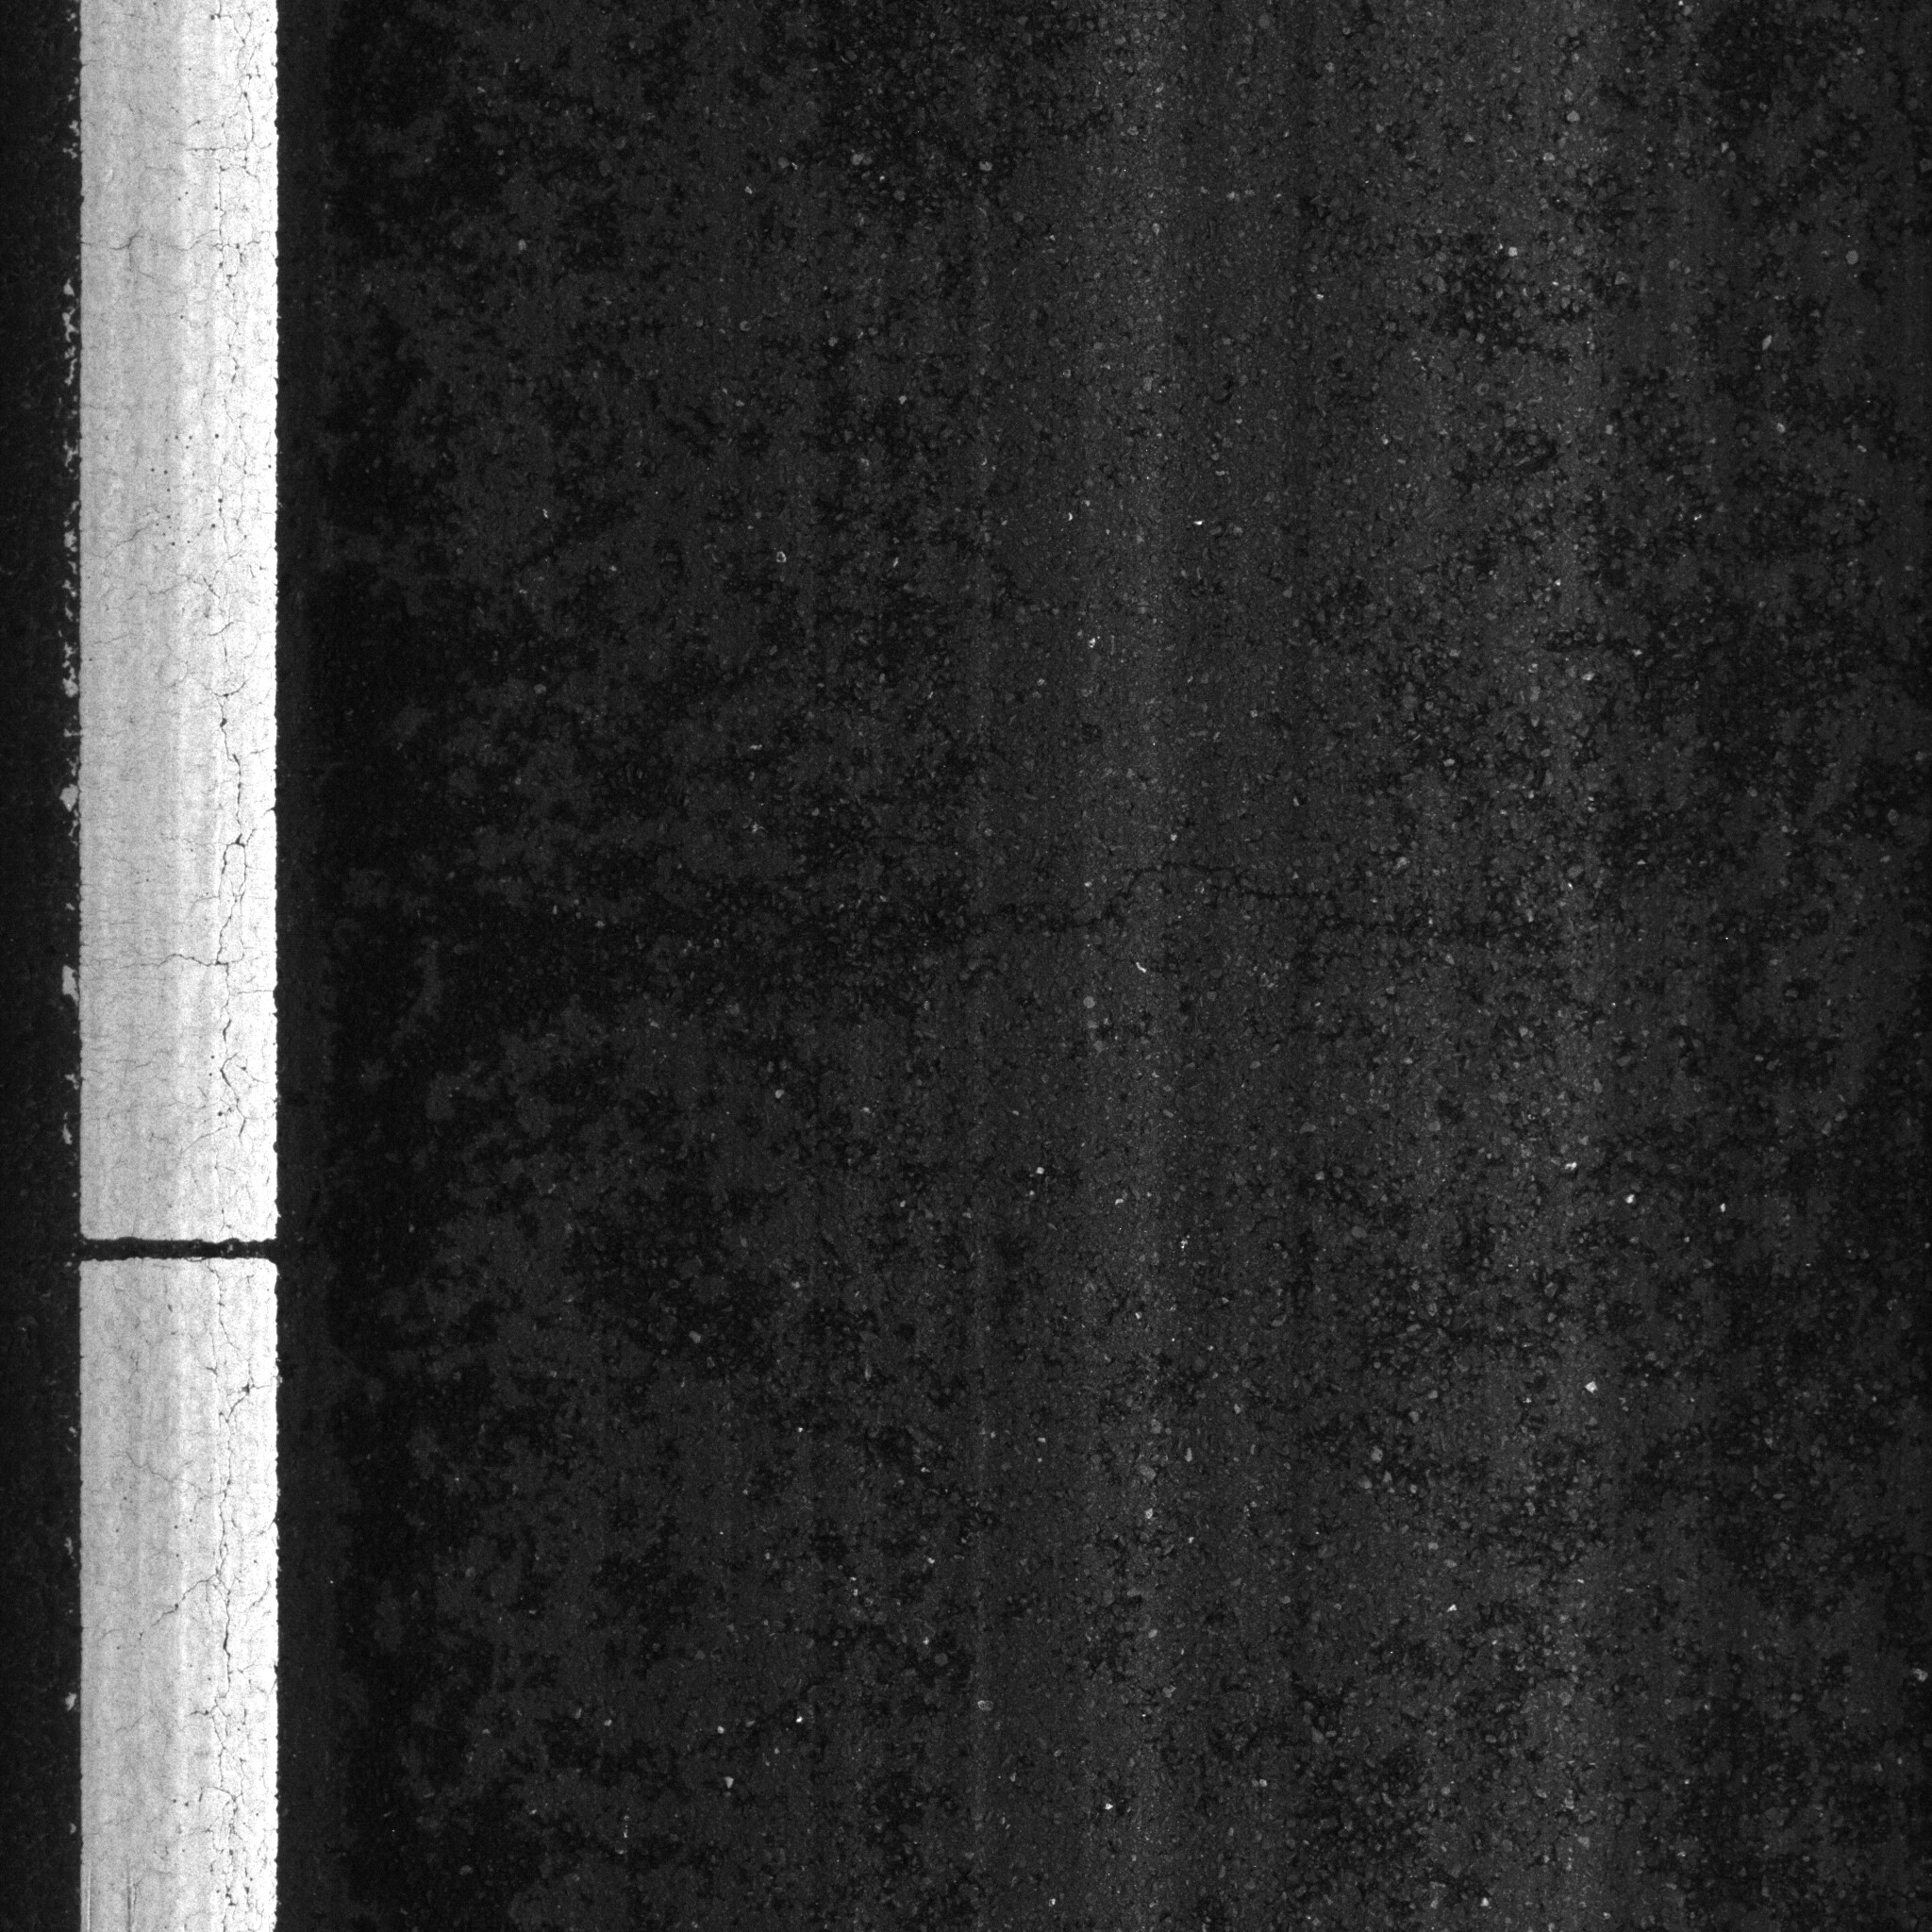transeverse: (1023, 832, 1562, 964)
